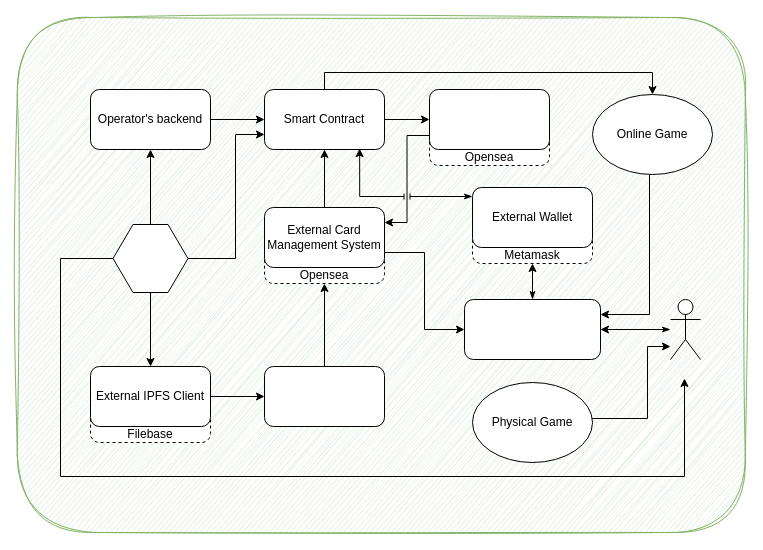
Some shapes in this 763 by 550 pixel diagram are drawn without their labels. Each missing label, with the centre of its shape:
"External Indexer" belongs at [489,119].
"Game Dev" belongs at [150,258].
"IPFS" belongs at [324,396].
"Mobile App (Tailored for use case)" belongs at [532,329].
"User" belongs at [685,329].
